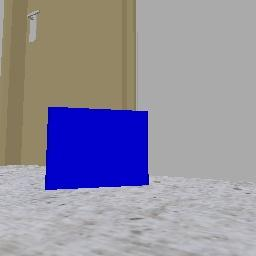albastru: (46, 107, 148, 189)
